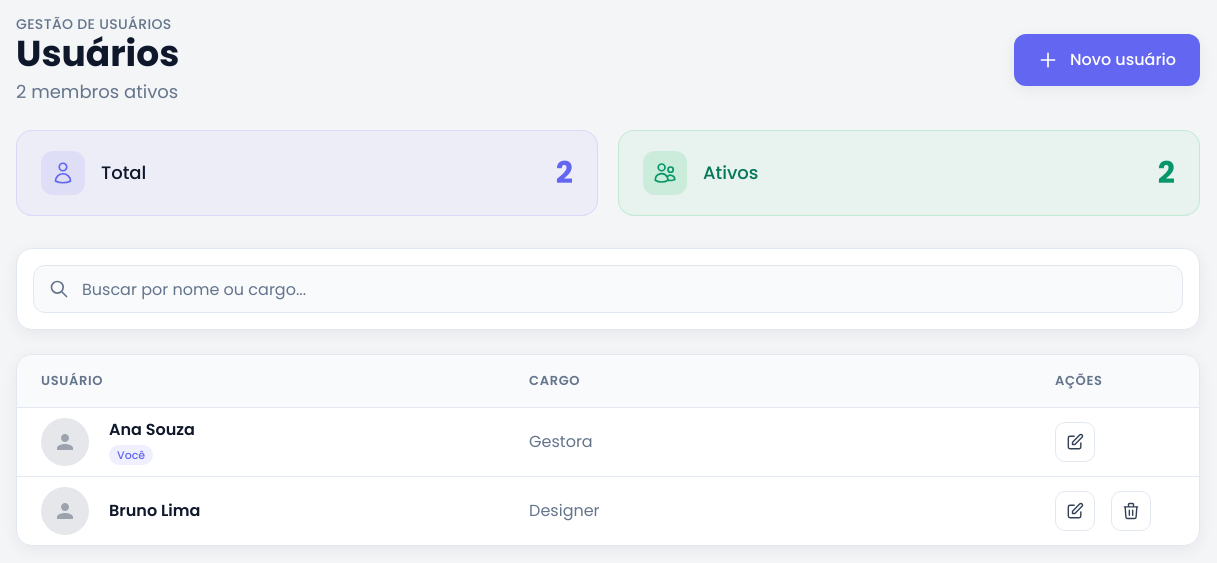
Test: Usuarios › combina a busca da barra superior com a busca da página
Expected: the text "Ana Souza" is shown, [109,418,195,442]
Type "bruno" into the field with placeholder "Buscar por nome ou cargo...".
click(608, 289); type("bruno")  # box [33,265,1183,313]
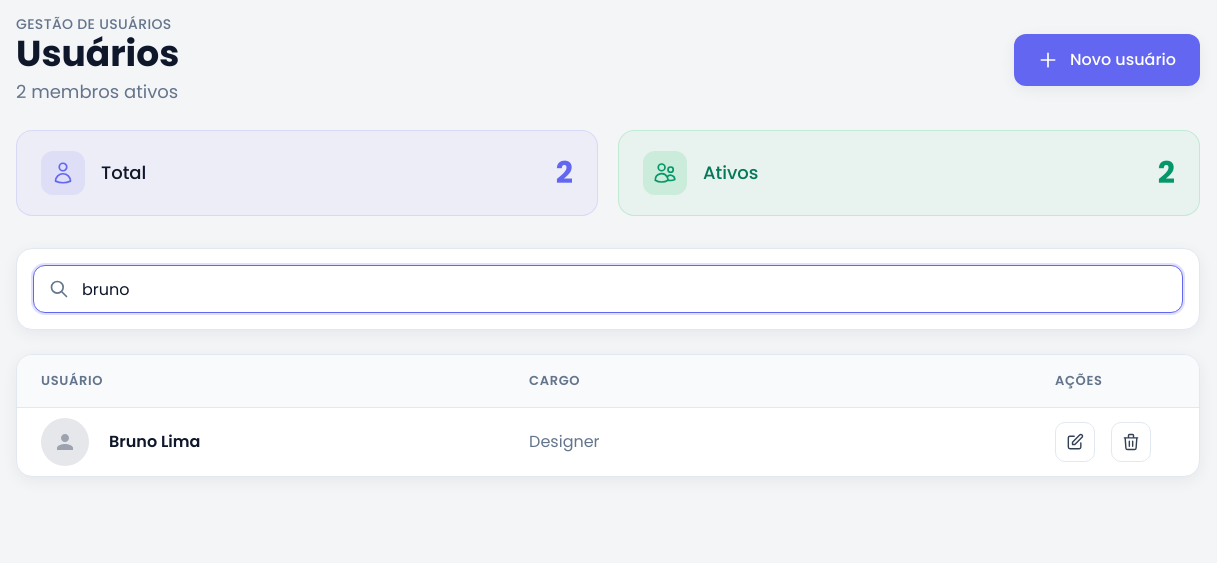
Expected: the text "Bruno Lima" is shown, [109,430,200,454]
Expected: the text "Ana Souza" is gone
